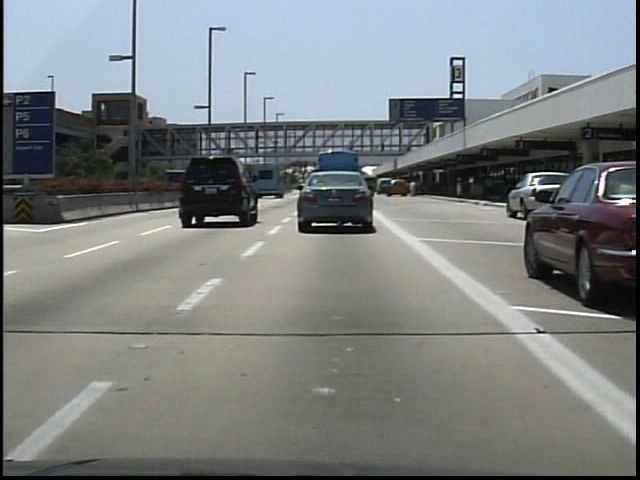person: (404, 177, 419, 202), (379, 136, 392, 158), (345, 136, 358, 156)
